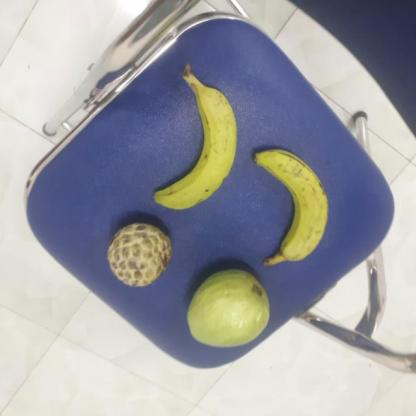annona: (102, 223, 170, 288)
banana: (149, 86, 237, 207), (249, 150, 328, 268)
guava: (182, 268, 273, 350)
